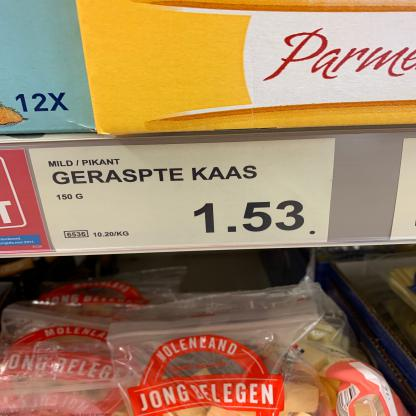prtg: (29, 139, 337, 253)
